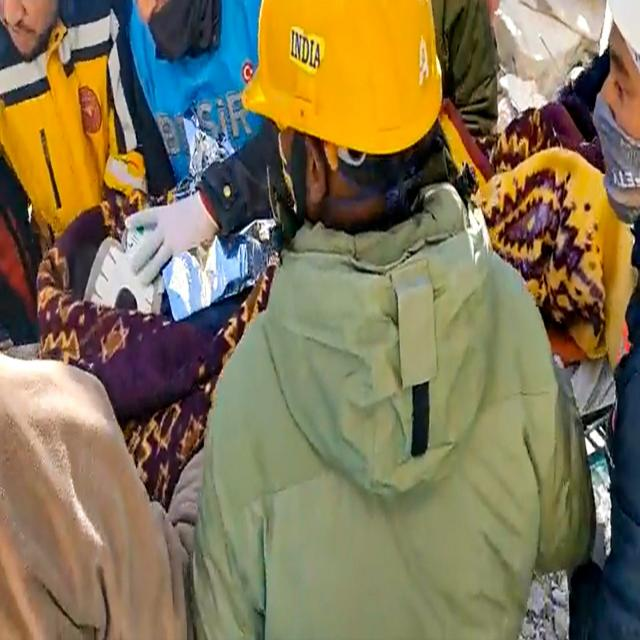Safety-Helmet: (243, 0, 450, 158)
